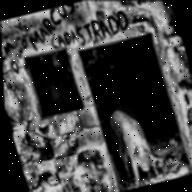boar: (104, 104, 161, 189)
